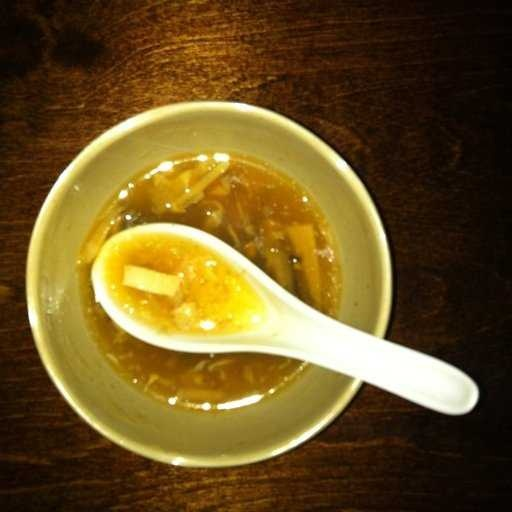soup: (75, 135, 345, 422)
